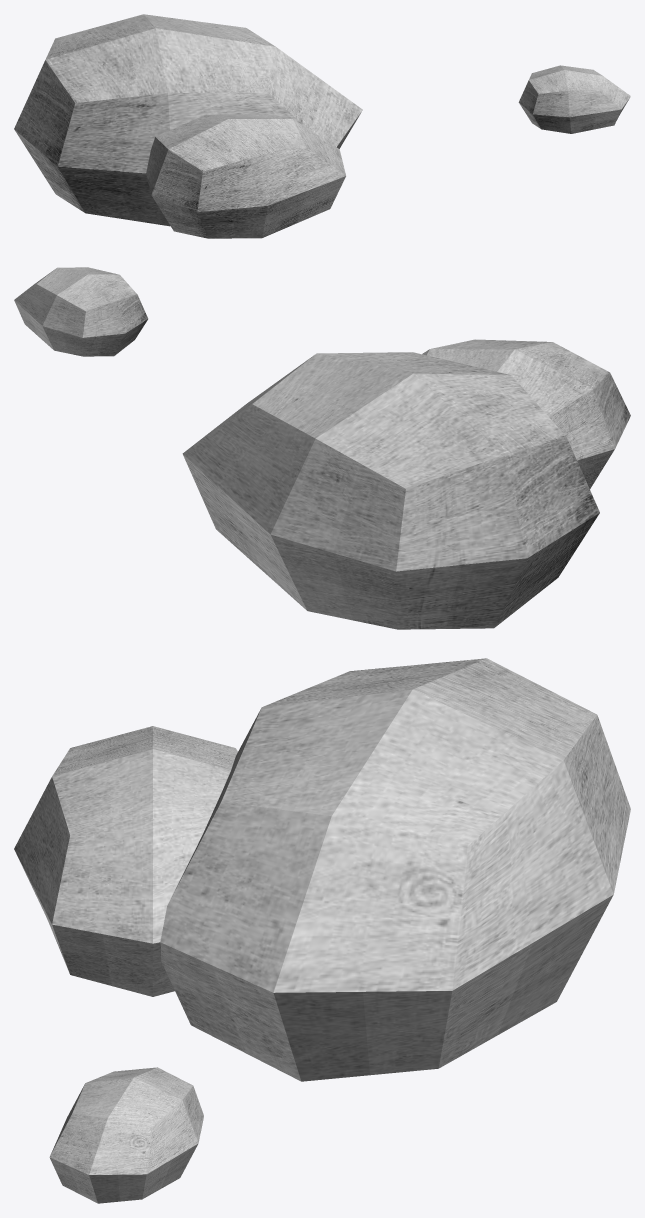
File: Pedrinha1.fbx
3 renders of one model, top to bottom at view 1: azimuth 30°, elevation 25°; view 2: azimuth 150°, elevation 25°; view 3: azimuth 270°, elevation 25°, orthographic. The views are drawn at different scales.
Parts seen in each view (by area): view 1: Cube.050; view 2: Cube.050; view 3: Cube.050.
Boxes of the visible parts, bbox=[...] form: Cube.050: bbox=[14, 14, 630, 238]; Cube.050: bbox=[14, 267, 630, 629]; Cube.050: bbox=[14, 658, 630, 1203].
Size of the model in its own units: 337 by 119 by 206.
1 material, 1 textured.
